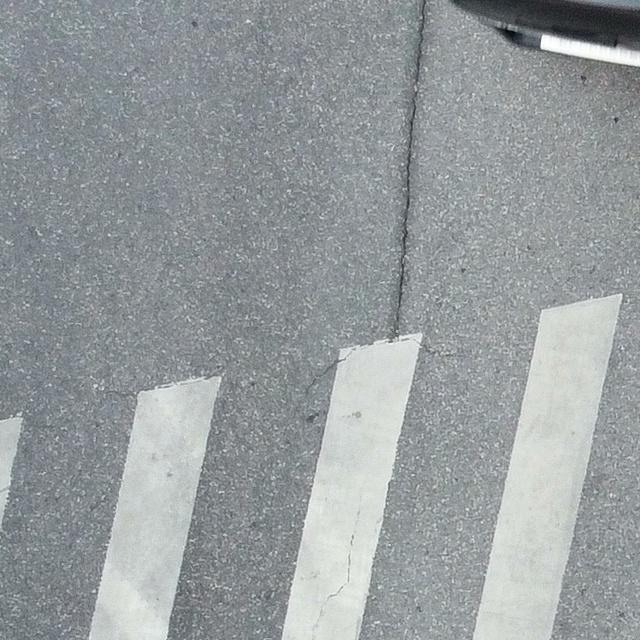LongitudinalCrack: (386, 1, 427, 343)
